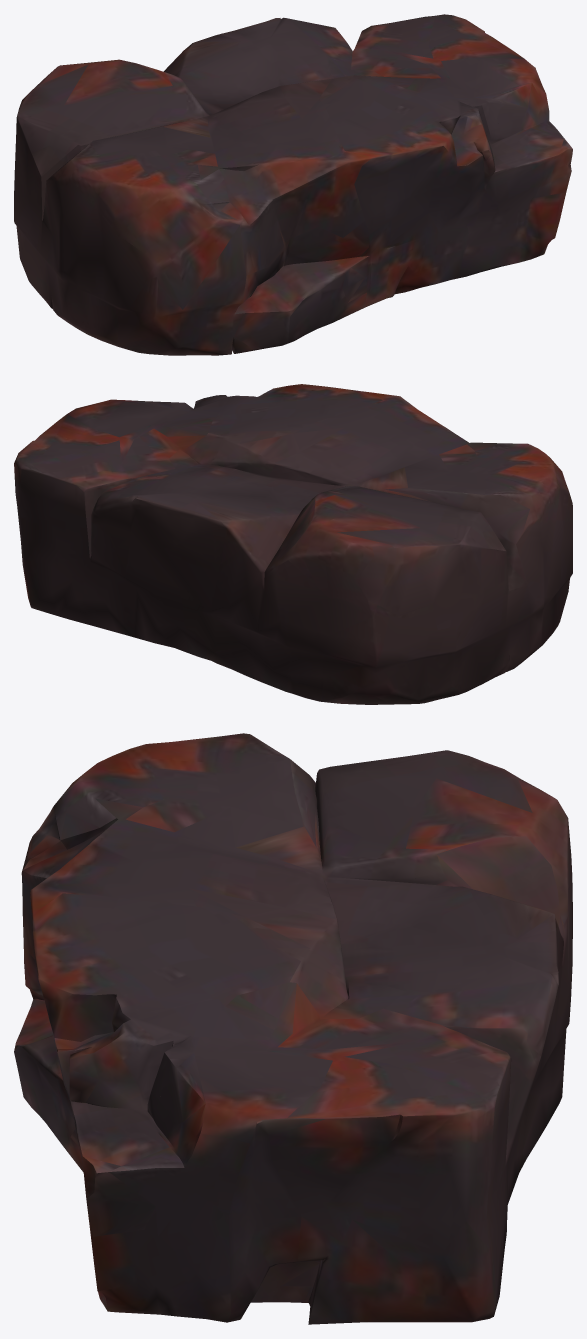
Rendered from stone_chunk_bulyzhnik_idle.glb.
3 renders of one model, top to bottom at view 1: azimuth 30°, elevation 25°; view 2: azimuth 150°, elevation 25°; view 3: azimuth 270°, elevation 25°, orthographic. The views are drawn at different scales.
Parts seen in each view (by area): view 1: tripo_node_fb9b8e05-defa-485e-9a42-689f2c805e13; view 2: tripo_node_fb9b8e05-defa-485e-9a42-689f2c805e13; view 3: tripo_node_fb9b8e05-defa-485e-9a42-689f2c805e13.
Boxes of the visible parts, bbox=[...] form: tripo_node_fb9b8e05-defa-485e-9a42-689f2c805e13: bbox=[14, 14, 572, 355]; tripo_node_fb9b8e05-defa-485e-9a42-689f2c805e13: bbox=[14, 384, 572, 704]; tripo_node_fb9b8e05-defa-485e-9a42-689f2c805e13: bbox=[14, 733, 572, 1324].
Size of the model in its own units: 0.15 by 0.0521 by 0.0981.
1 material, 1 textured.
